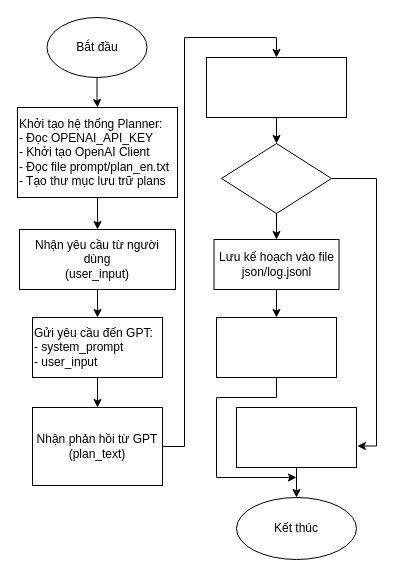
Some shapes in this 402 by 577 pixel diagram are drawn without their labels. The shapes that lost their labels are listed below. From the top down, each one's centre as x and y in pixels, then its label:
(276,87): Chuyển đổi plan_text thành JSON json.loads()
(276,178): JSON hợp lệ?
(276,347): Return JSON Plan
(296,437): Báo lỗi: JSONDecodeError
